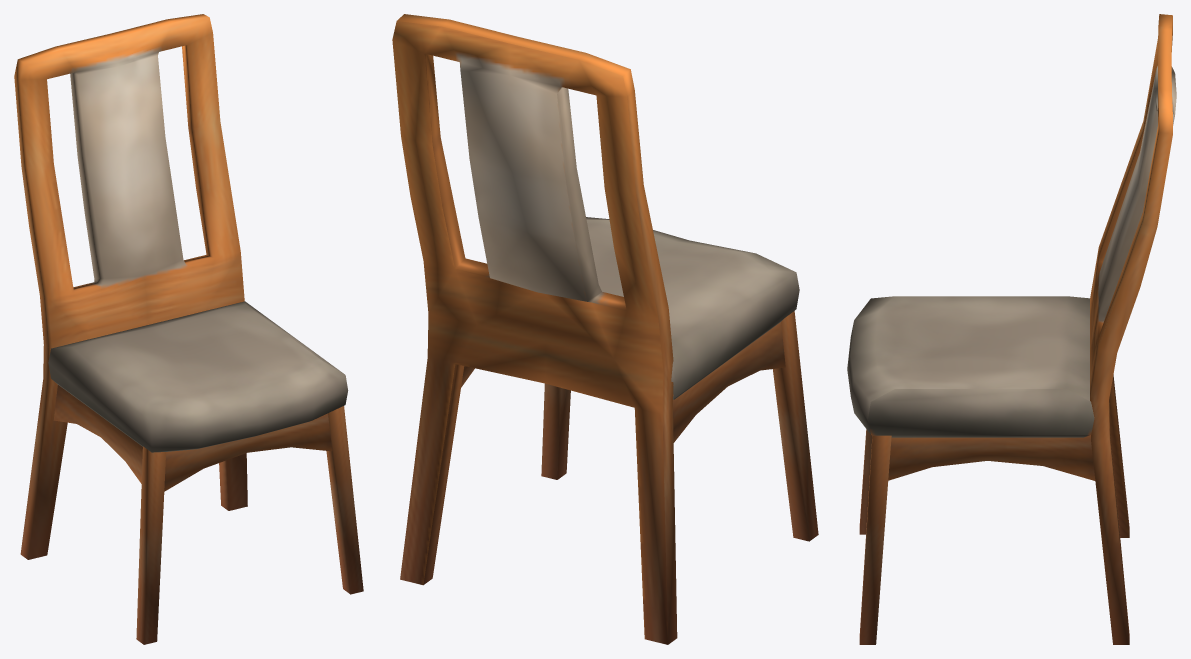
File: Chair_2.fbx
The picture shows the model from 3 angles, left to right: view 1: azimuth 30°, elevation 25°; view 2: azimuth 150°, elevation 25°; view 3: azimuth 270°, elevation 25°; orthographic projection. The views are drawn at different scales.
Visible parts, largest first — view 1: Chair_2; view 2: Chair_2; view 3: Chair_2.
Part boxes in pixels (x1=…): Chair_2: x1=14, y1=14, x2=363, y2=644; Chair_2: x1=392, y1=14, x2=818, y2=644; Chair_2: x1=847, y1=14, x2=1176, y2=644.
Bounding box in the file's own units: 0.6879 × 1.44 × 0.8169.
